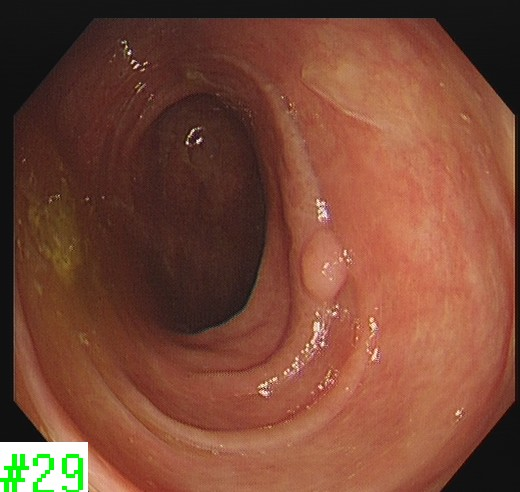adenoma: (298, 225, 350, 304)
